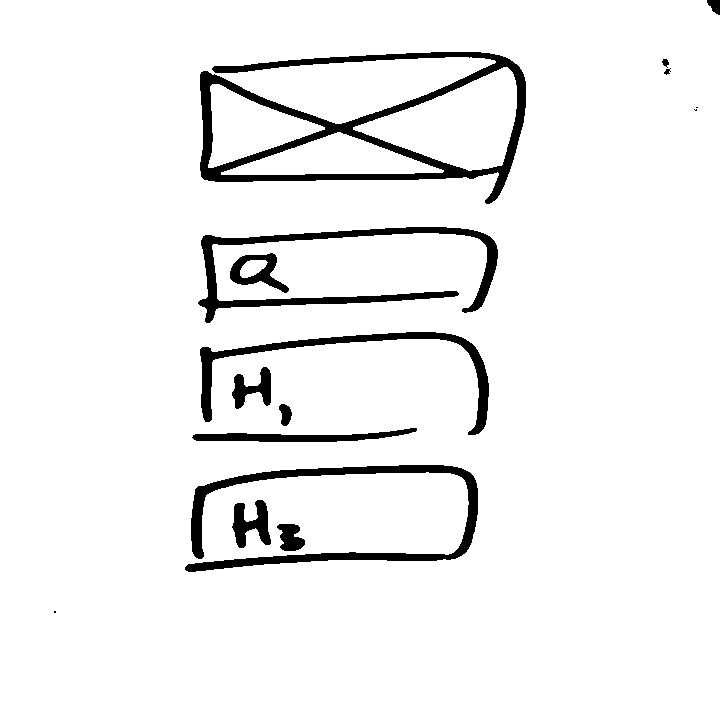heading1: (191, 327, 504, 446)
heading3: (187, 456, 482, 576)
picture: (192, 46, 528, 204)
search bar: (198, 222, 505, 319)
